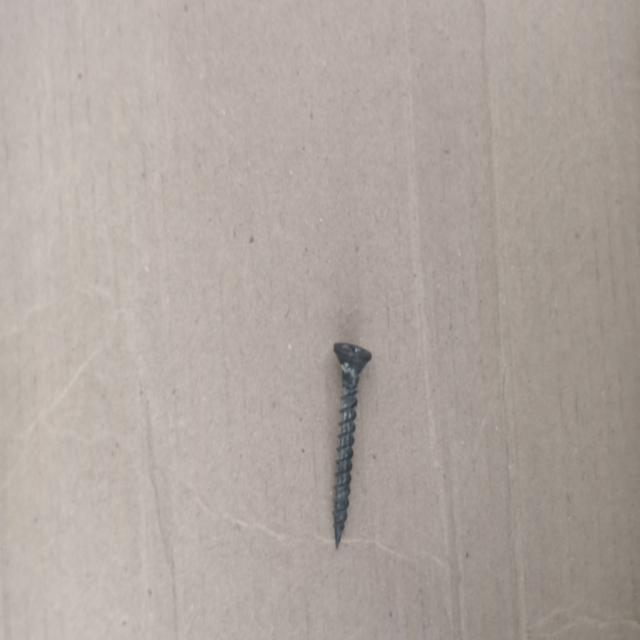screw: (332, 342, 371, 548)
